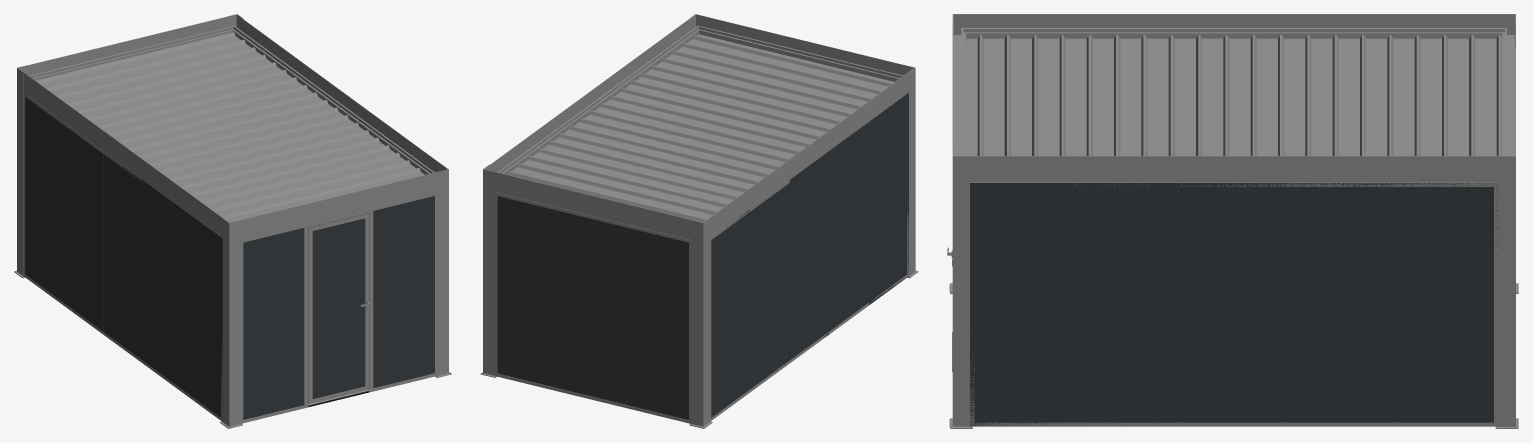
3 renders of one model, left to right at view 1: azimuth 30°, elevation 25°; view 2: azimuth 150°, elevation 25°; view 3: azimuth 270°, elevation 25°, orthographic. The views are drawn at different scales.
Visible parts, largest first — view 1: Line002, Plane005, Plane006, Rectangle002, Rectangle003, Rectangle001, Rectangle020, Rectangle006, Rectangle007, Rectangle018, Rectangle004; view 2: Line002, Plane005, Plane003, Rectangle002, Rectangle004, Rectangle019, Rectangle005, Rectangle018, Rectangle003; view 3: Plane002, Line002, Rectangle002, Rectangle009, Rectangle001, Rectangle005.
Boxes of the visible parts, box(x1,y1,x2,y2) form: Line002: box(35, 32, 424, 222); Plane005: box(25, 97, 222, 417); Plane006: box(243, 196, 434, 419); Rectangle002: box(17, 14, 448, 239); Rectangle003: box(222, 218, 240, 426); Rectangle001: box(437, 165, 448, 375); Rectangle020: box(240, 192, 437, 423); Rectangle006: box(304, 208, 373, 407); Rectangle007: box(308, 213, 368, 404); Rectangle018: box(23, 93, 222, 421); Rectangle004: box(17, 65, 26, 275); Line002: box(507, 34, 894, 222); Plane005: box(711, 93, 908, 417); Plane003: box(497, 196, 688, 419); Rectangle002: box(484, 14, 914, 239); Rectangle004: box(692, 218, 709, 426); Rectangle019: box(494, 192, 691, 423); Rectangle005: box(483, 164, 494, 375); Rectangle018: box(710, 92, 908, 421); Rectangle003: box(909, 67, 915, 275); Plane002: box(970, 183, 1498, 426); Line002: box(966, 35, 1502, 155); Rectangle002: box(953, 14, 1515, 182); Rectangle009: box(970, 182, 1498, 426); Rectangle001: box(952, 149, 969, 426); Rectangle005: box(1498, 149, 1515, 426).
Size of the model in its own units: 3045 by 2663 by 5081.
8 materials, 2 textured.
